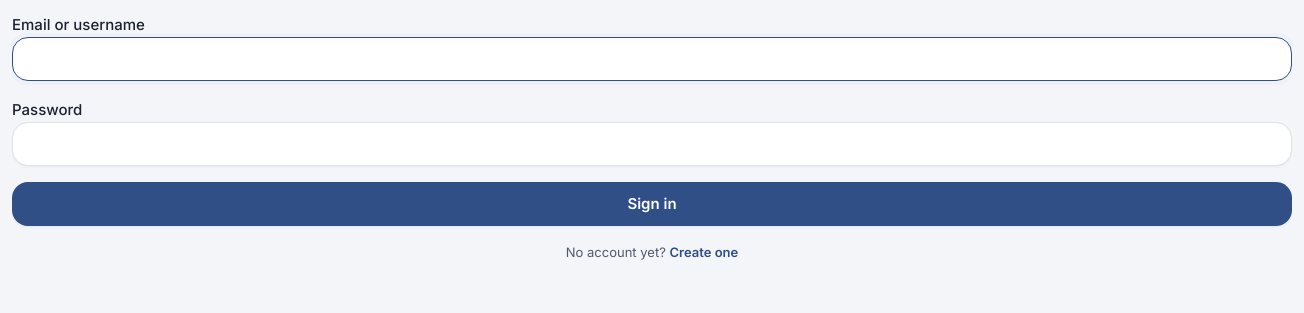
Test case: LoginForm › explains a rejected session cookie instead of bouncing back to the login page
Type "ada" into the field labelled "Email or username".
click(652, 59); type("ada")  # box left=12, top=37, right=1292, bottom=81
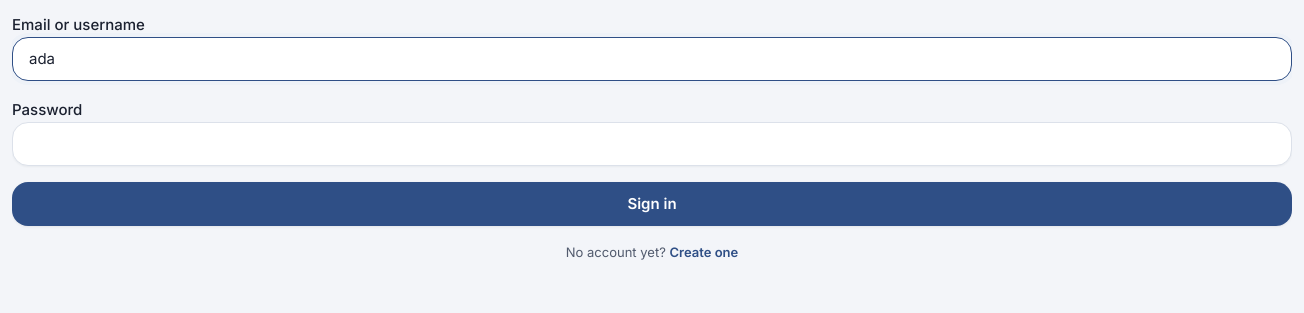
Type "correct horse" into the password field labelled "Password".
click(652, 144); type("correct horse")  # box left=12, top=122, right=1292, bottom=166
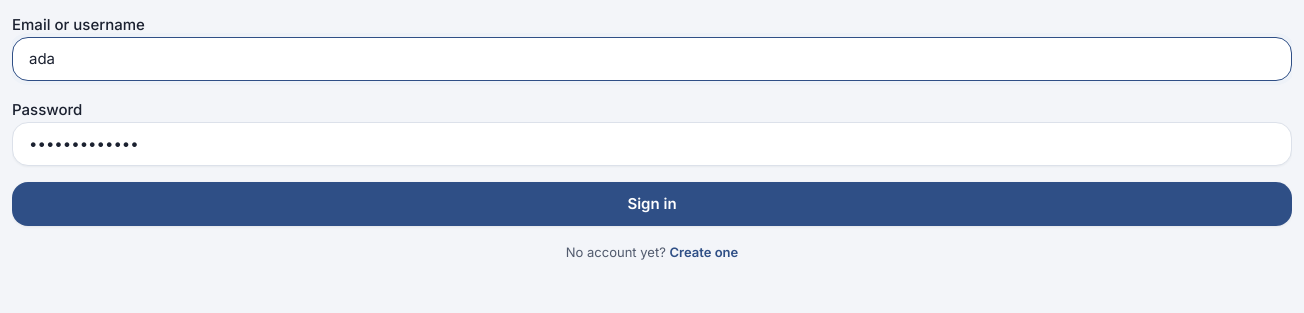
Click the button "Sign in".
click(652, 204)  # box left=12, top=182, right=1292, bottom=226
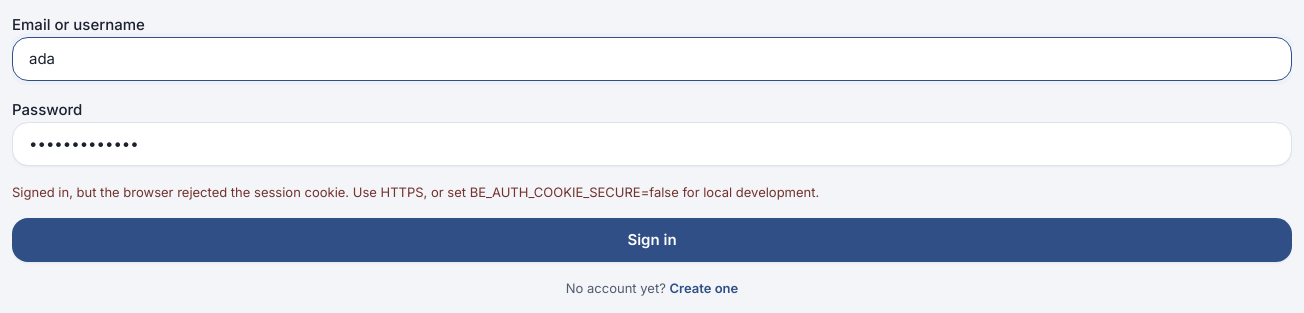
Check: the message shows "the browser rejected the session cookie", box left=12, top=184, right=819, bottom=200
Check: the message shows "BE_AUTH_COOKIE_SECURE=false", box left=12, top=184, right=819, bottom=200
